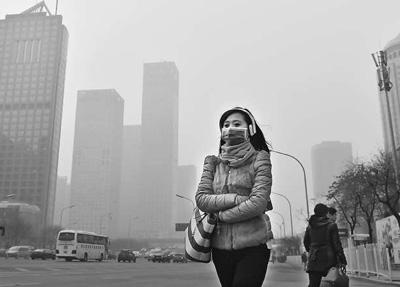person: (184, 102, 277, 287), (302, 202, 350, 287), (327, 206, 338, 222)
